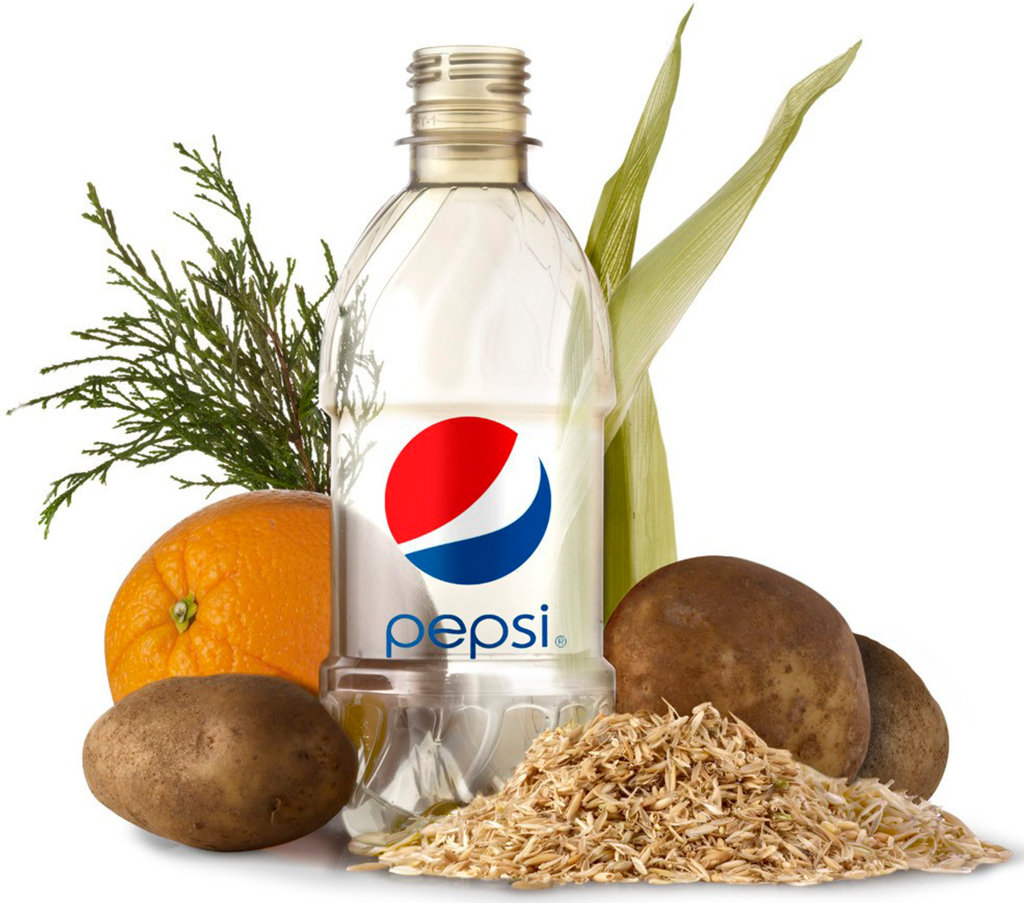pepsi: (380, 414, 552, 584)
